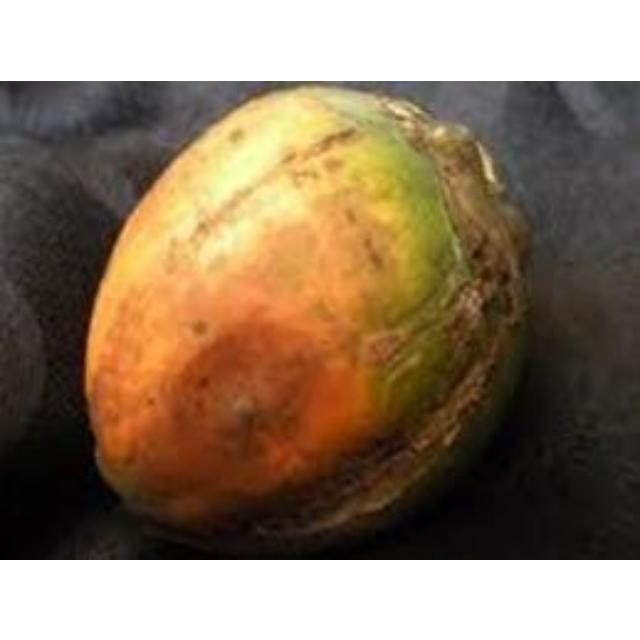damaged: (77, 87, 534, 557)
